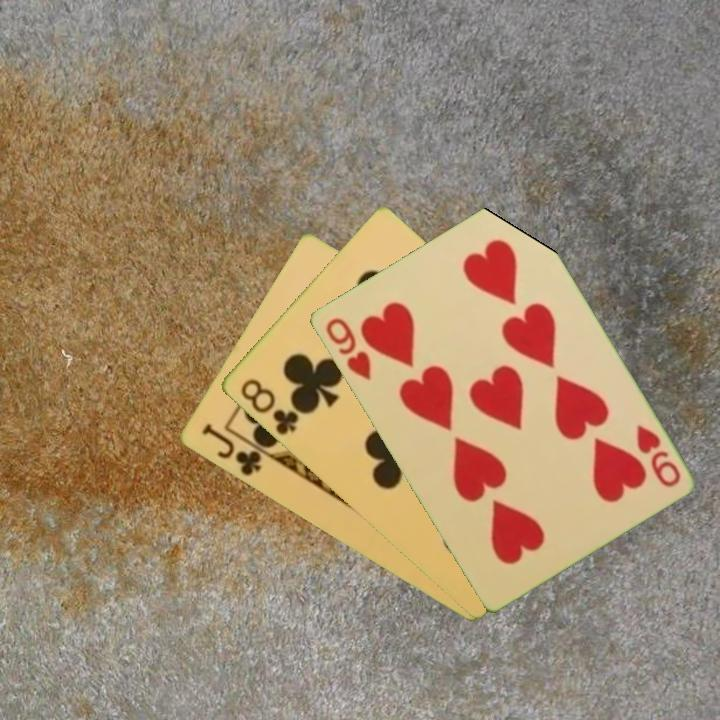8c: (236, 375, 301, 438)
9h: (321, 313, 374, 383), (632, 421, 684, 490)
Jc: (198, 420, 264, 480)
